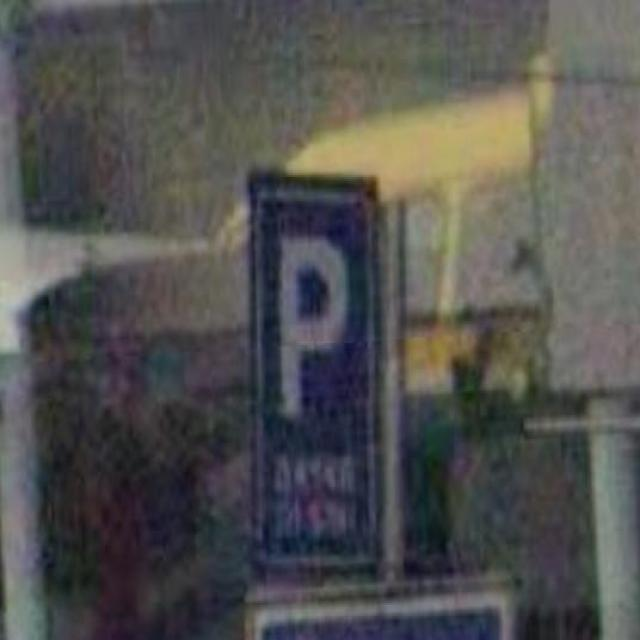traffic sign: (247, 164, 383, 576)
